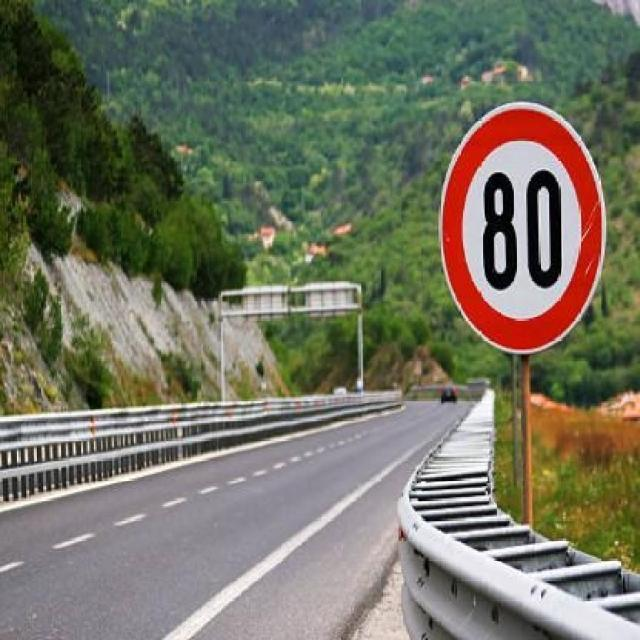forb_speed_over_80: (440, 105, 603, 354)
